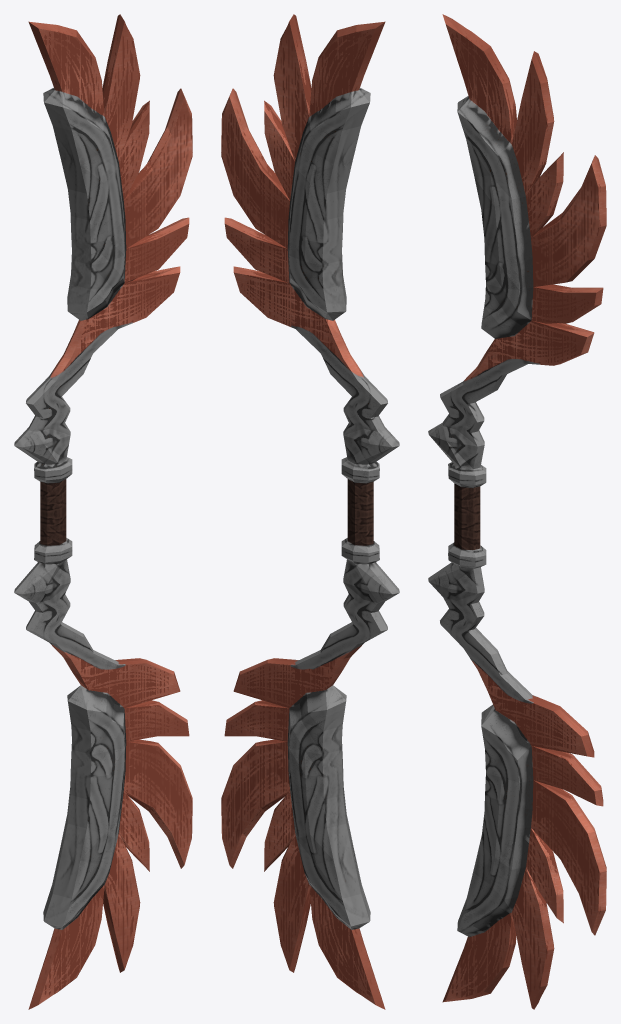
The model's file is Red Feather Bow.fbx.
The picture shows the model from 3 angles, left to right: view 1: azimuth 30°, elevation 25°; view 2: azimuth 150°, elevation 25°; view 3: azimuth 330°, elevation 25°; orthographic projection.
Visible parts, largest first — view 1: Red_Feather_Bow; view 2: Red_Feather_Bow; view 3: Red_Feather_Bow.
Part boxes in pixels (x1=…): Red_Feather_Bow: x1=14, y1=14, x2=192, y2=1009; Red_Feather_Bow: x1=221, y1=14, x2=399, y2=1009; Red_Feather_Bow: x1=428, y1=14, x2=606, y2=1009.
Size of the model in its own units: 87.09 by 460 by 19.87.
